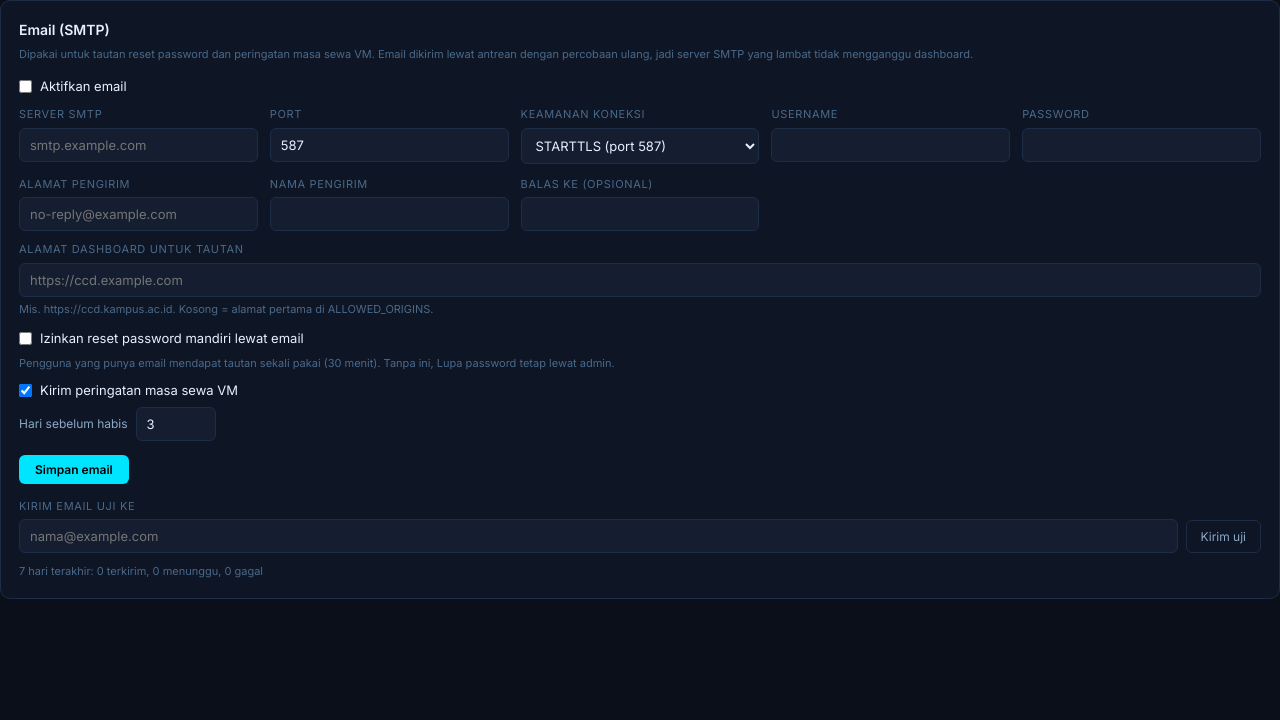
it: EmailSettingsCard › kirim email uji menampilkan galat dari server
Type "a@b.id" into the field labelled "Kirim email uji ke".
click(598, 536); type("a@b.id")  # box [19,519,1178,553]
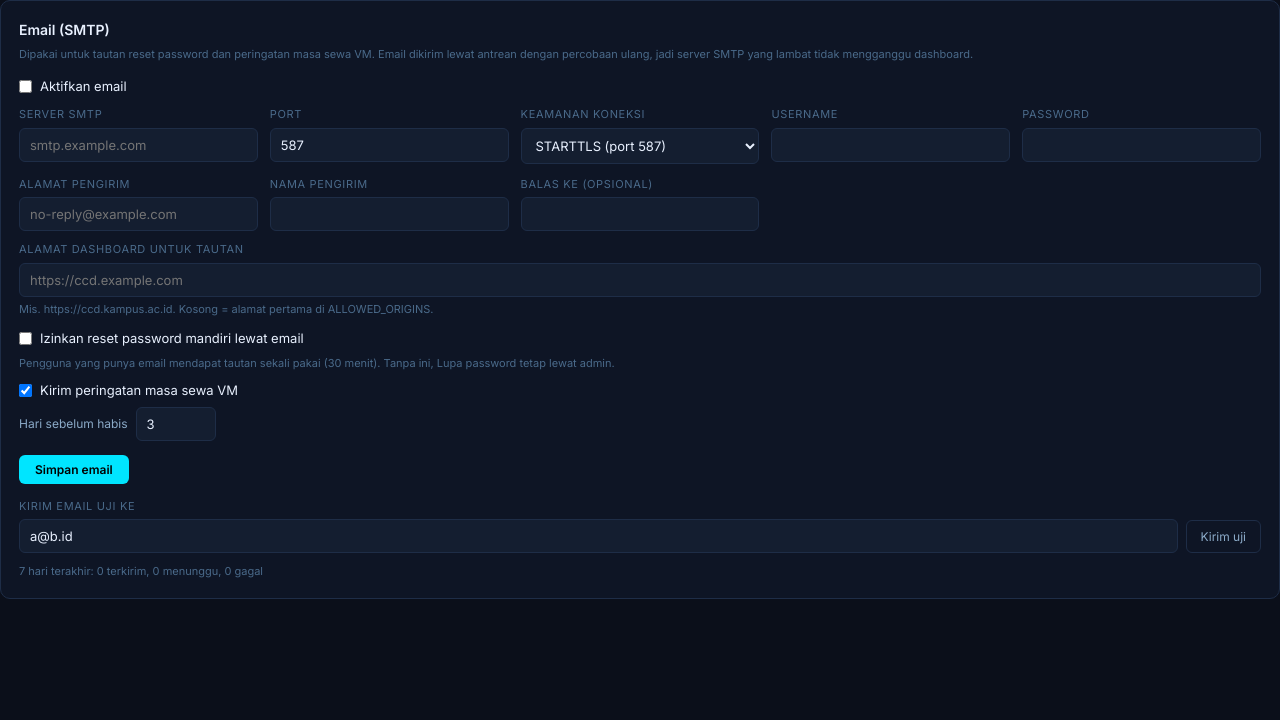
Click the button "Kirim uji".
click(1223, 536)  # box [1186,520,1261,553]
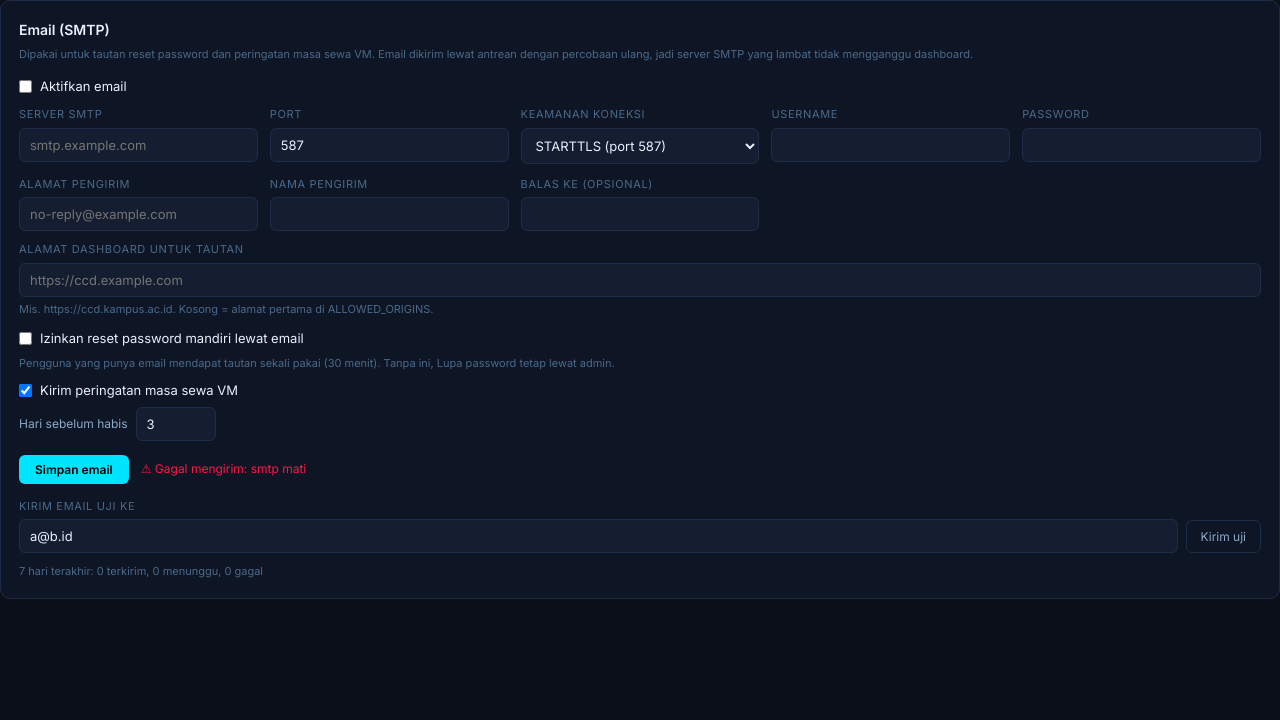
Check: the text "⚠ Gagal mengirim: smtp mati" is shown, box [141,460,306,478]
